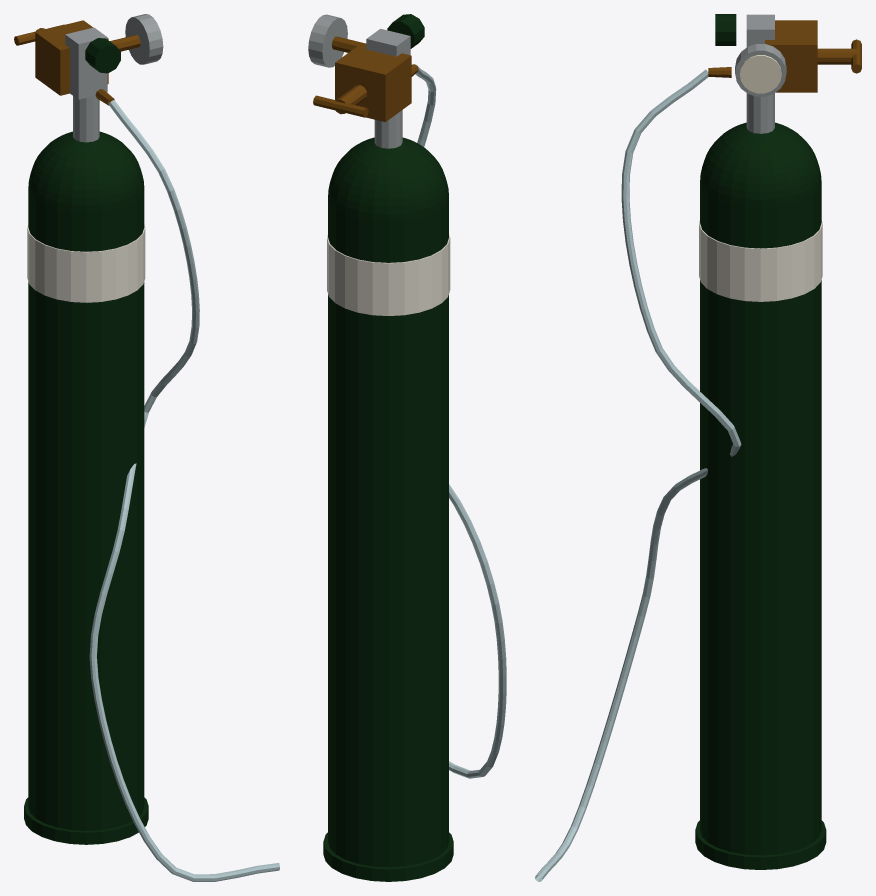
Rendered from OxygenTank1991.obj.
The picture shows the model from 3 angles, left to right: view 1: azimuth 30°, elevation 25°; view 2: azimuth 150°, elevation 25°; view 3: azimuth 270°, elevation 25°; orthographic projection. The views are drawn at different scales.
Parts seen in each view (by area): view 1: OxygenTank1991; view 2: OxygenTank1991; view 3: OxygenTank1991.
Boxes of the visible parts, left/top/right/bottom form: OxygenTank1991: left=14, top=14, right=279, bottom=881; OxygenTank1991: left=308, top=14, right=506, bottom=881; OxygenTank1991: left=535, top=14, right=861, bottom=881.
Bounding box in the file's own units: 0.1471 × 0.7811 × 0.2796.
